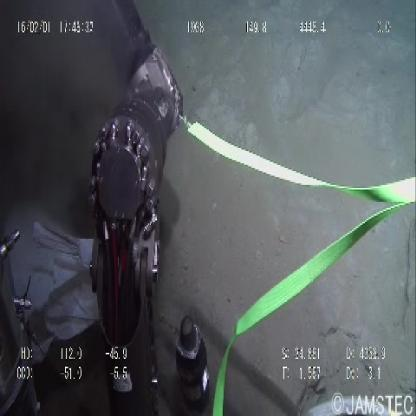Rov: (86, 18, 210, 413)
Rác: (4, 208, 103, 350)
